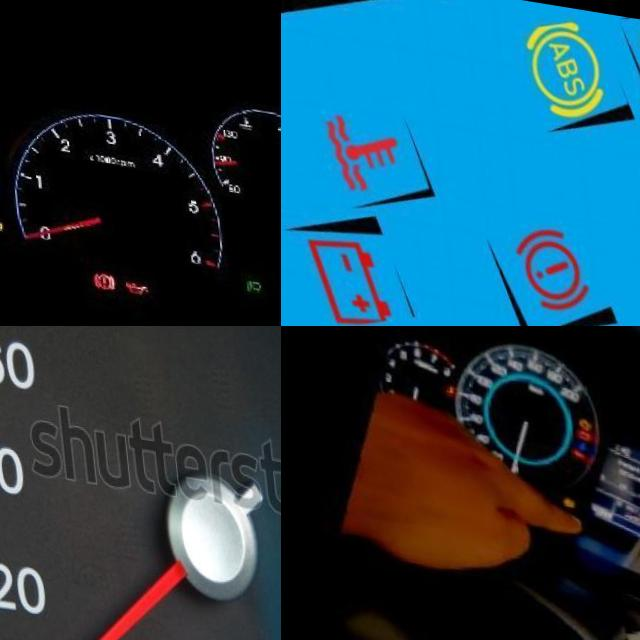Engine cooling system: (573, 429, 585, 442)
